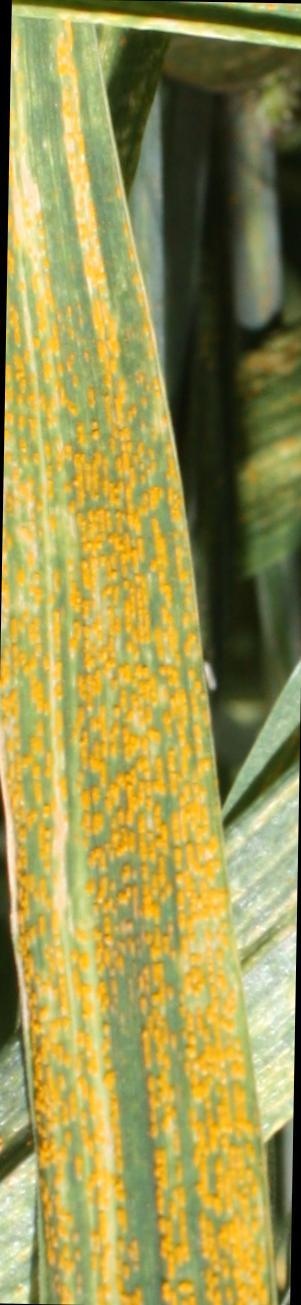Wheat: (9, 777, 260, 1282), (5, 296, 205, 778)
